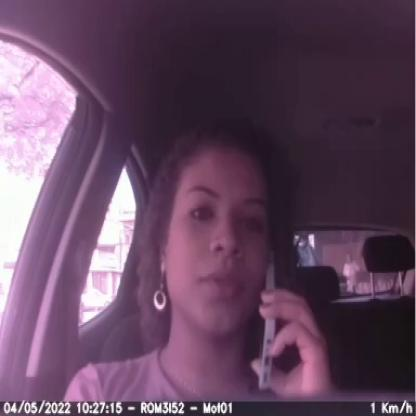phone: (252, 241, 288, 400)
